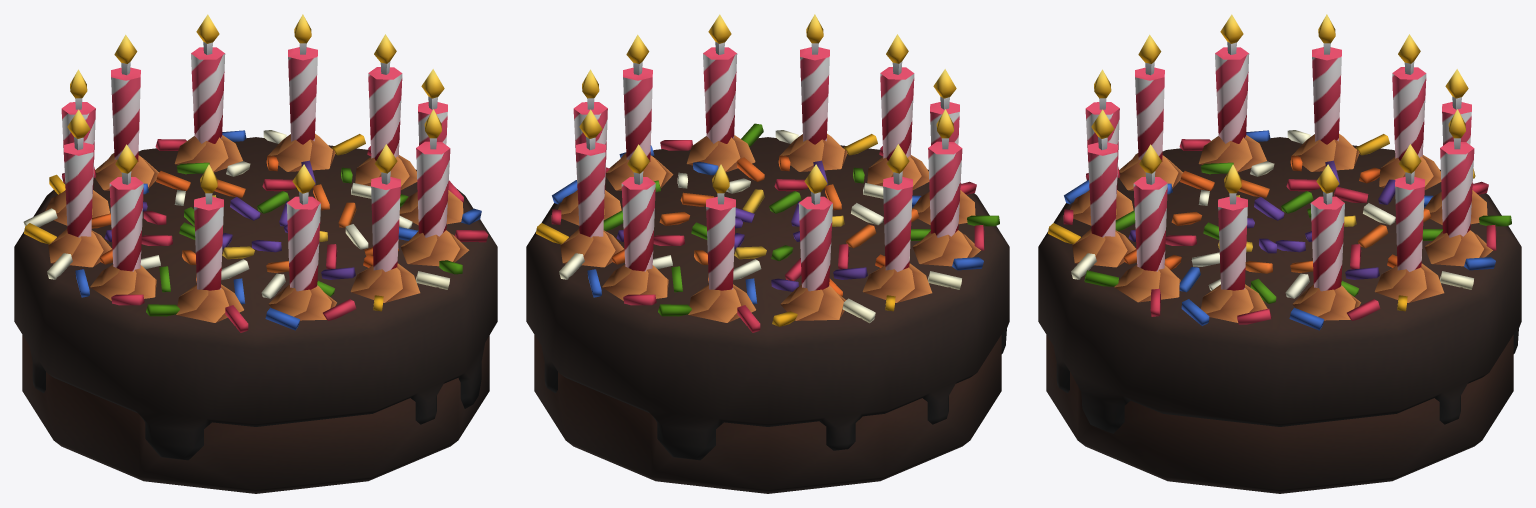
Rendered from m_BirthdayCake04.fbx.
The picture shows the model from 3 angles, left to right: view 1: azimuth 30°, elevation 25°; view 2: azimuth 150°, elevation 25°; view 3: azimuth 270°, elevation 25°; orthographic projection.
Visible parts, largest first — view 1: m_BirthdayCake04; view 2: m_BirthdayCake04; view 3: m_BirthdayCake04.
Part boxes in pixels (box(x1,y1,x2,y2)): m_BirthdayCake04: box(14, 14, 497, 493); m_BirthdayCake04: box(526, 14, 1009, 493); m_BirthdayCake04: box(1038, 14, 1521, 493).
Bounding box in the file's own units: 28.97 × 20.5 × 28.97.
